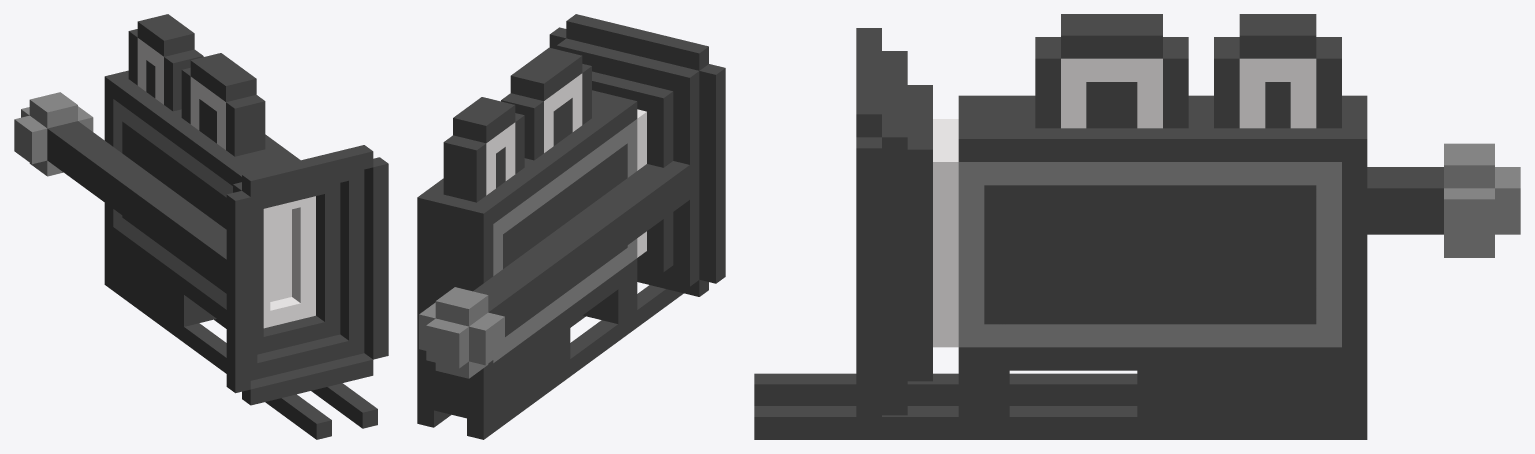
File: Camera.fbx
The picture shows the model from 3 angles, left to right: view 1: azimuth 30°, elevation 25°; view 2: azimuth 150°, elevation 25°; view 3: azimuth 270°, elevation 25°; orthographic projection. The views are drawn at different scales.
Visible parts, largest first — view 1: Camera_fixturing:Mesh; view 2: Camera_fixturing:Mesh; view 3: Camera_fixturing:Mesh.
Boxes of the visible parts, x1,y1,x2,y2 form: Camera_fixturing:Mesh: (14, 14, 388, 439); Camera_fixturing:Mesh: (417, 14, 725, 439); Camera_fixturing:Mesh: (754, 14, 1520, 439).
Bounding box in the file's own units: 10 × 17 × 30.
Materials: 1 (1 with a texture image).
